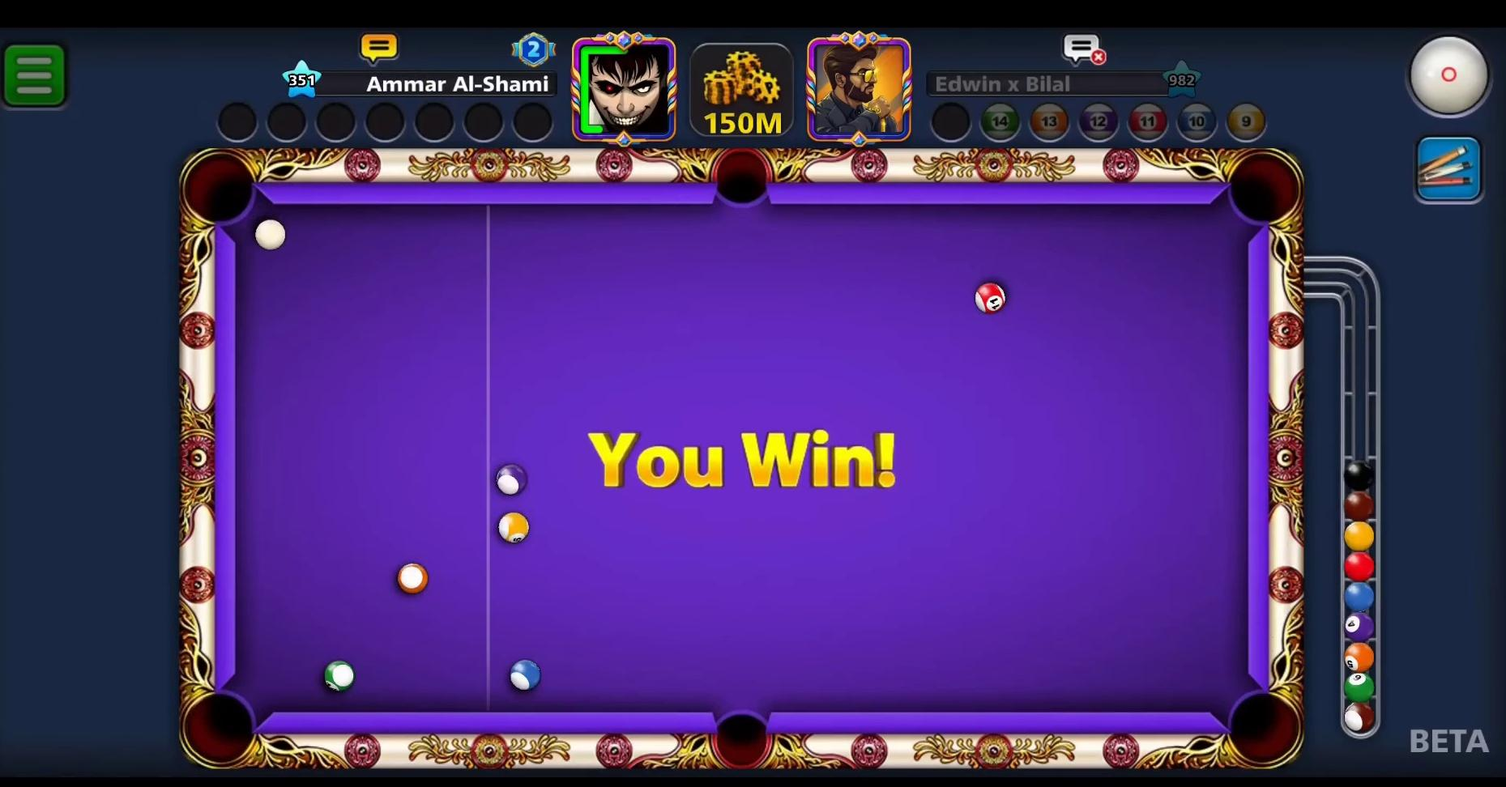Ball: (497, 652, 547, 697), (315, 656, 364, 696), (391, 561, 438, 602), (970, 277, 1011, 320), (489, 460, 529, 497), (494, 511, 535, 547)
Hole: (164, 679, 271, 775), (173, 141, 275, 236), (1213, 678, 1309, 776), (1217, 143, 1306, 233), (697, 690, 790, 775), (699, 142, 783, 219)
Play_Area: (225, 203, 1253, 715)
Spin: (1402, 28, 1504, 128)
White: (249, 214, 292, 253)
